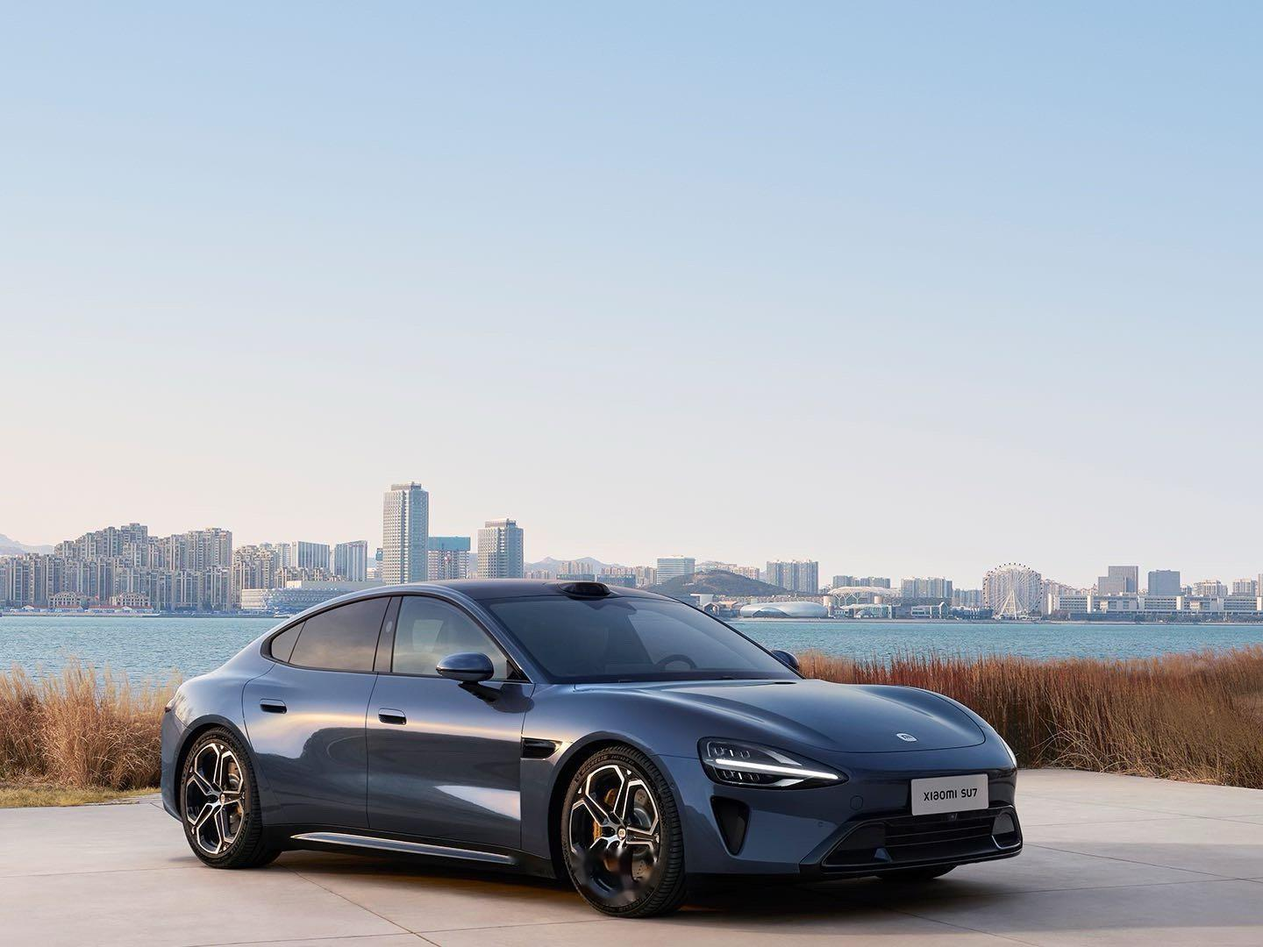su7: (153, 580, 1040, 916)
